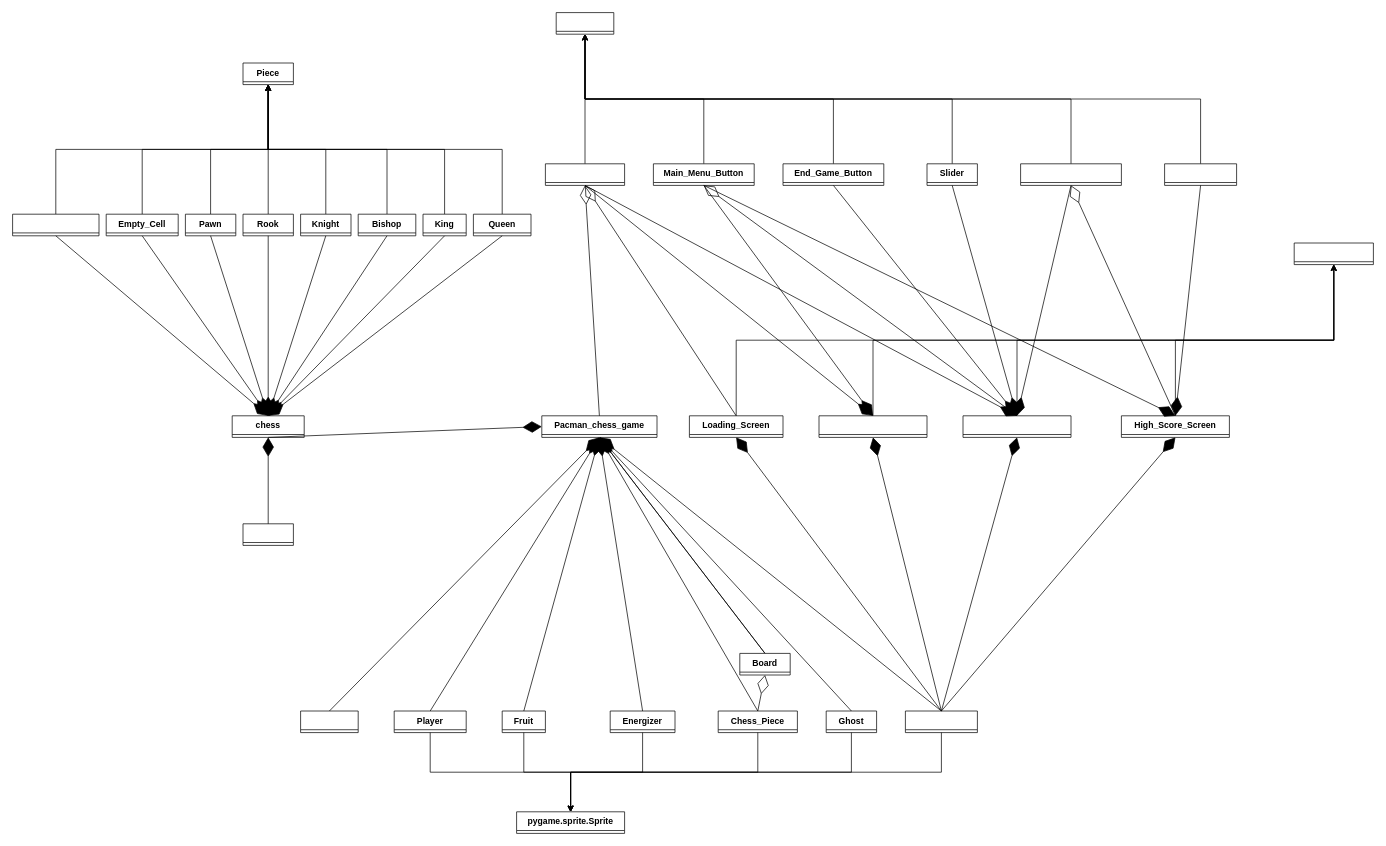
Some shapes in this 1386 by 846 pixel diagram are drawn without their labels. The shapes that lost their labels are listed below. From the top down, each one's box as (x1, y1, x2, y2) in pixels, then its label:
(555, 12, 614, 34): Button
(545, 163, 625, 185): Game_Button
(1020, 163, 1121, 185): High_Score_Button
(1164, 163, 1237, 185): Scroll_Bar
(12, 213, 99, 236): Shadow_Pawn
(1293, 242, 1373, 265): Base_Screen
(818, 415, 927, 437): Play_Again_Screen
(962, 415, 1071, 437): Main_Menu_Screen
(242, 523, 293, 545): Stack
(300, 710, 358, 733): Queue
(905, 710, 977, 733): Text_Box
